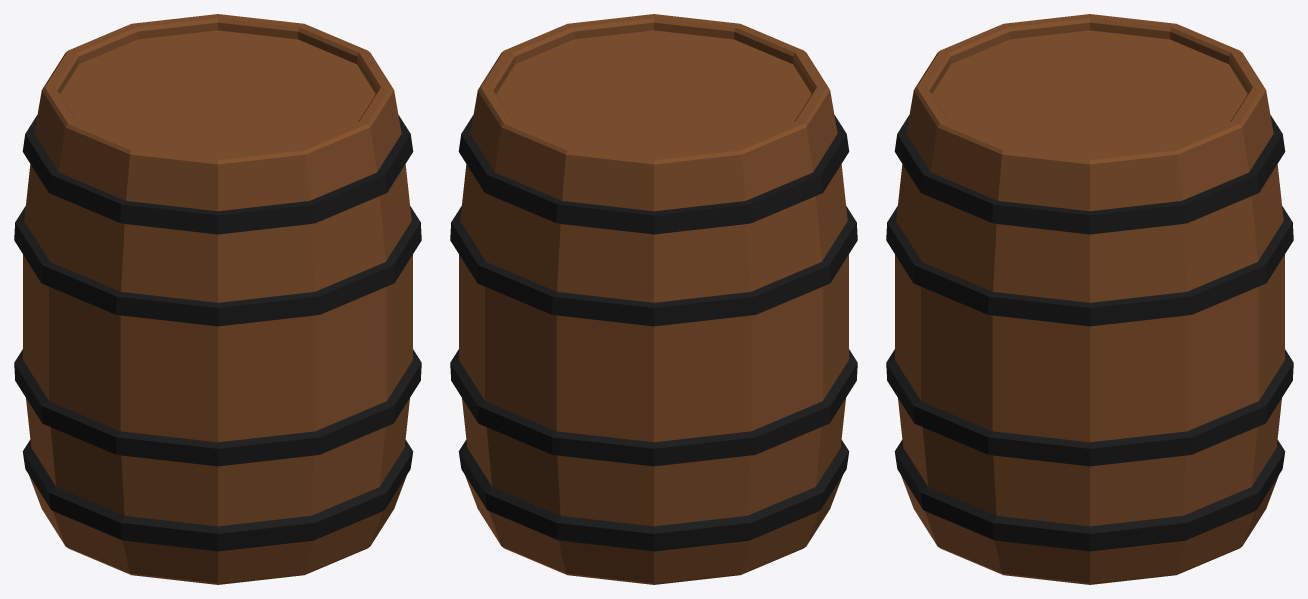
The model's file is Barrel A.obj.
3 renders of one model, left to right at view 1: azimuth 30°, elevation 25°; view 2: azimuth 150°, elevation 25°; view 3: azimuth 270°, elevation 25°, orthographic.
Visible parts, largest first — view 1: Barrel_A; view 2: Barrel_A; view 3: Barrel_A.
Boxes of the visible parts, x1,y1,x2,y2 form: Barrel_A: [14, 14, 421, 584]; Barrel_A: [450, 14, 857, 584]; Barrel_A: [886, 14, 1293, 584].
Bounding box in the file's own units: 0.87 × 1 × 0.87.
